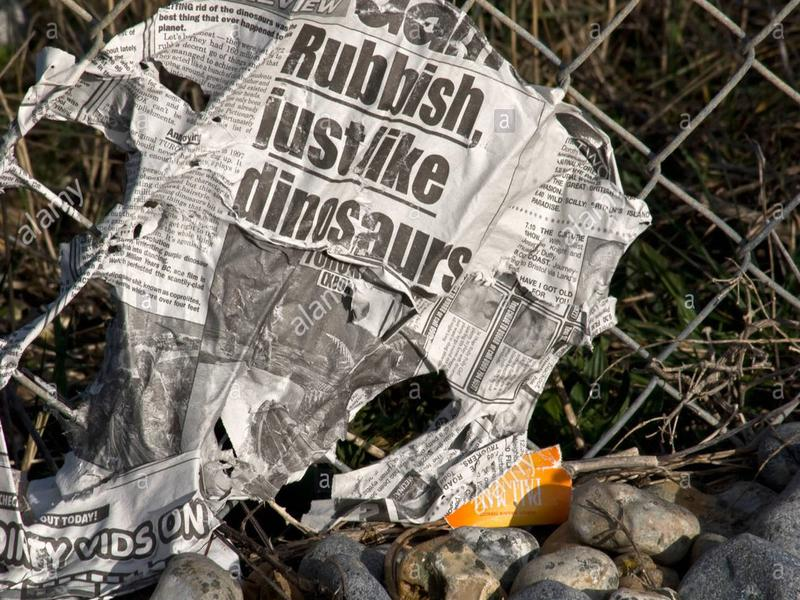cup: (440, 438, 577, 533)
paper: (1, 1, 655, 597)
